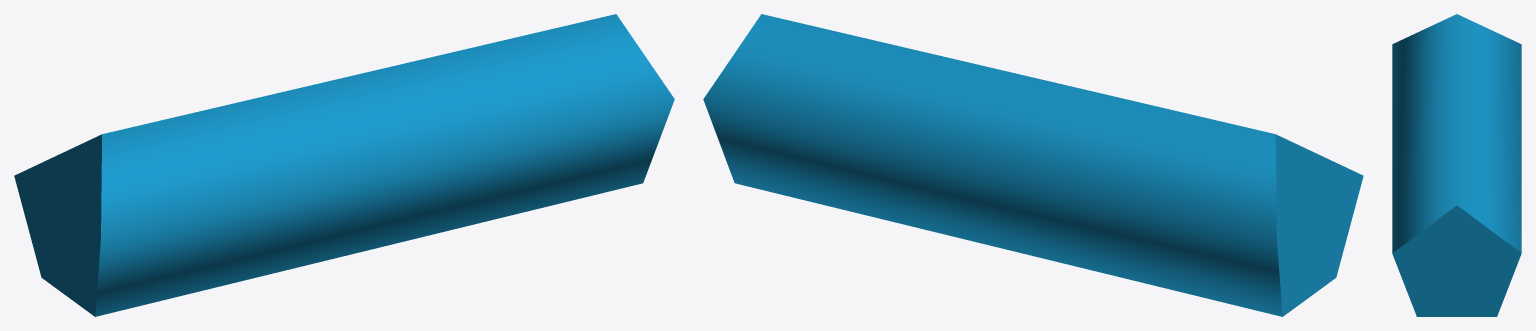
File: Crayon_L.FBX
The picture shows the model from 3 angles, left to right: view 1: azimuth 30°, elevation 25°; view 2: azimuth 150°, elevation 25°; view 3: azimuth 270°, elevation 25°; orthographic projection. The views are drawn at different scales.
Parts seen in each view (by area): view 1: Crayon_And_Chalk; view 2: Crayon_And_Chalk; view 3: Crayon_And_Chalk.
Boxes of the visible parts, <box> form: Crayon_And_Chalk: <box>14,14,674,316</box>; Crayon_And_Chalk: <box>703,14,1363,316</box>; Crayon_And_Chalk: <box>1392,14,1521,316</box>.
Bounding box in the file's own units: 29.04 × 7.49 × 7.61.
